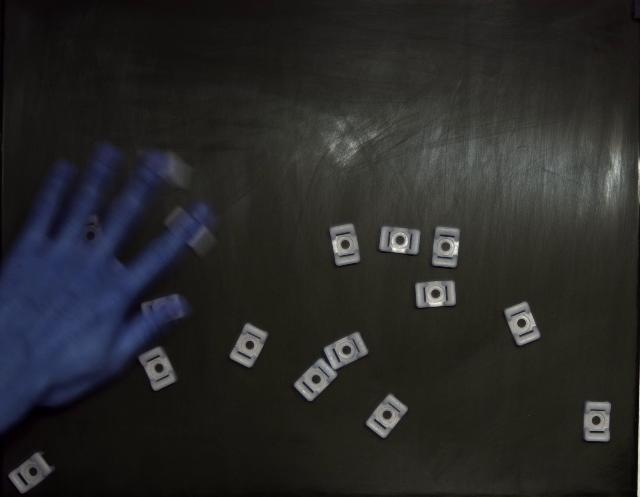first_side: (9, 452, 55, 494), (294, 359, 338, 402), (366, 394, 408, 439), (230, 324, 269, 369), (139, 346, 178, 391), (324, 332, 369, 370), (504, 302, 540, 346), (330, 224, 360, 266), (431, 226, 460, 268), (379, 226, 420, 255), (415, 281, 456, 309), (584, 401, 611, 442)
